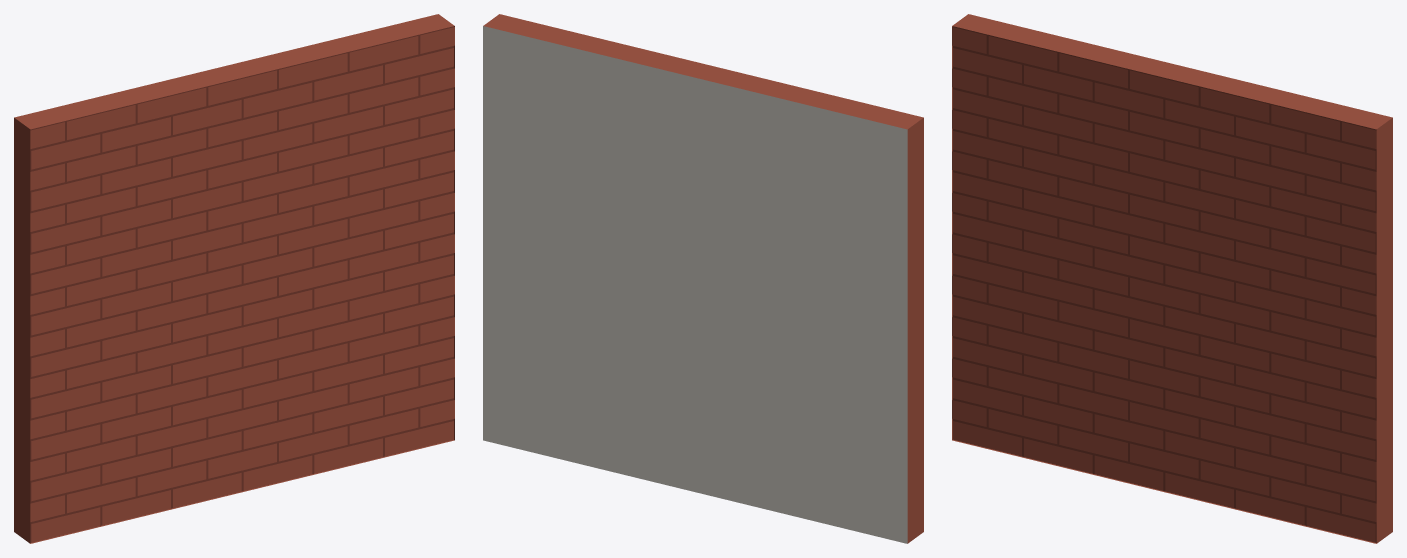
File: SC_Bld_Villa_Wall_Brick_3m.gltf
3 renders of one model, left to right at view 1: azimuth 30°, elevation 25°; view 2: azimuth 150°, elevation 25°; view 3: azimuth 330°, elevation 25°, orthographic.
Visible parts, largest first — view 1: SC_Bld_Villa_Wall_Brick_3m; view 2: SC_Bld_Villa_Wall_Brick_3m; view 3: SC_Bld_Villa_Wall_Brick_3m.
Boxes of the visible parts, <box> form: SC_Bld_Villa_Wall_Brick_3m: <box>14,14,454,543</box>; SC_Bld_Villa_Wall_Brick_3m: <box>483,14,923,543</box>; SC_Bld_Villa_Wall_Brick_3m: <box>952,14,1392,543</box>.
Bounding box in the file's own units: 3 × 2.8 × 0.2.
1 material, 1 textured.
